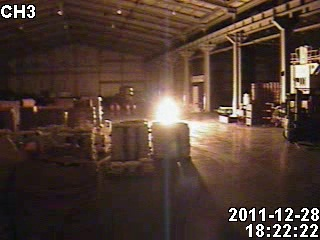fire: (152, 93, 182, 125)
